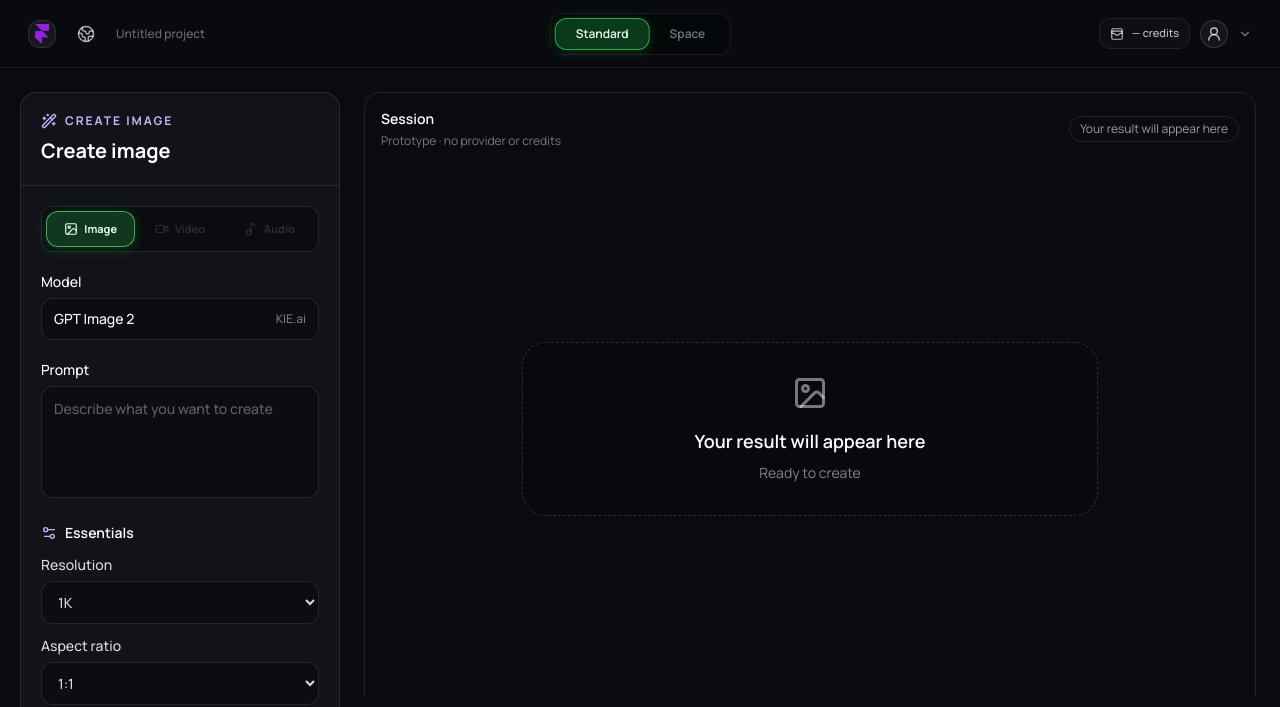
Standard image prototype › keeps the initial English experience concise and makes image generation discoverable
In the text box labelled "Prompt": point(180, 442) 41,386 -> 319,498, type "A quiet city at sunrise"
(page scrolled)
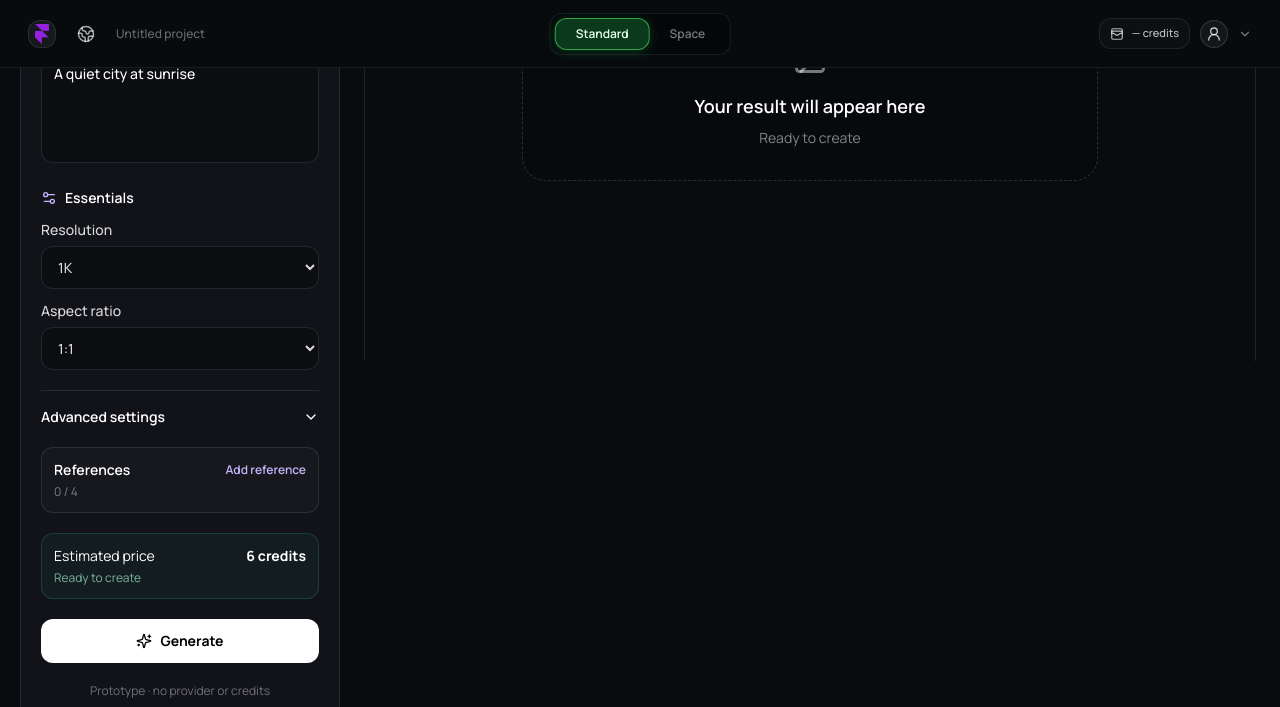
expect the field labelled "Style" is not shown: met
expect the button "Generate" is enabled: met, box 41,619 -> 319,663
Click the button "Advanced settings": point(103, 416) 41,407 -> 319,427
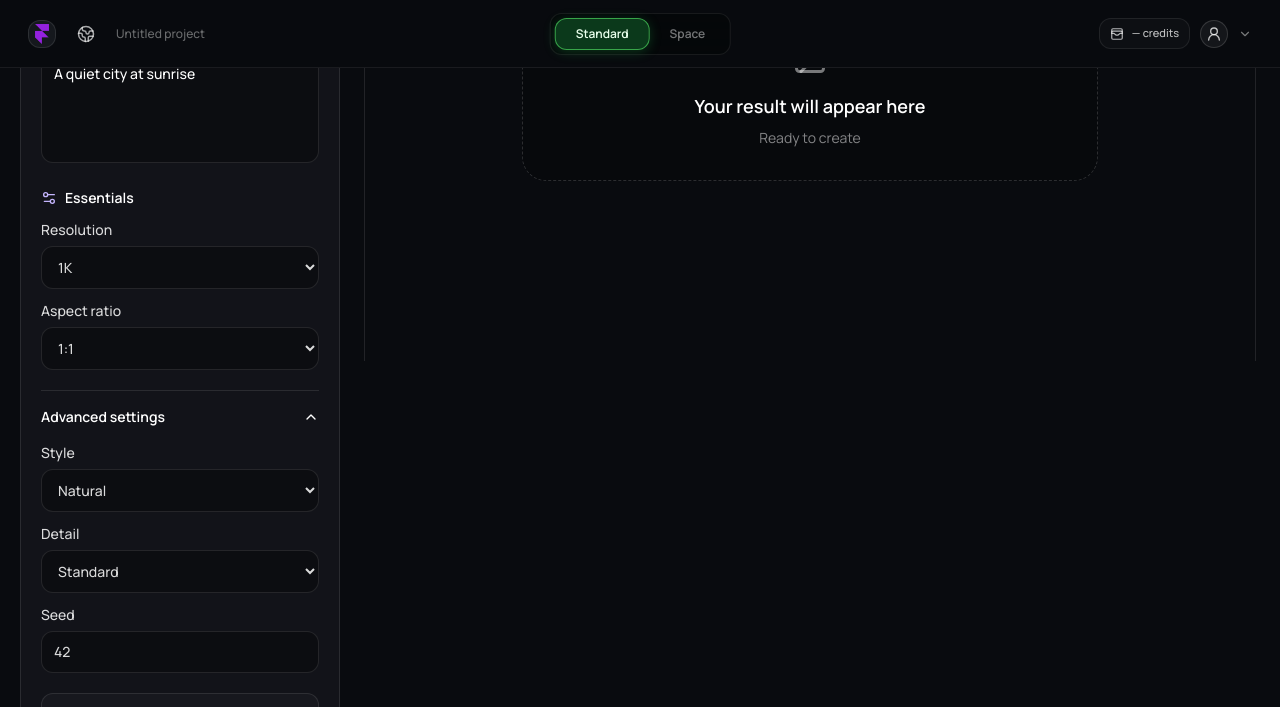
expect the dropdown labelled "Style" is shown: met, box 41,469 -> 319,512
